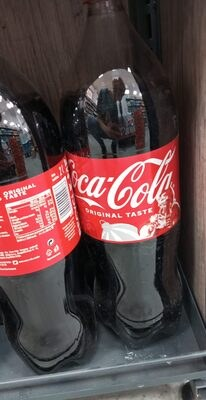Coca Cola: (10, 20, 196, 380)
